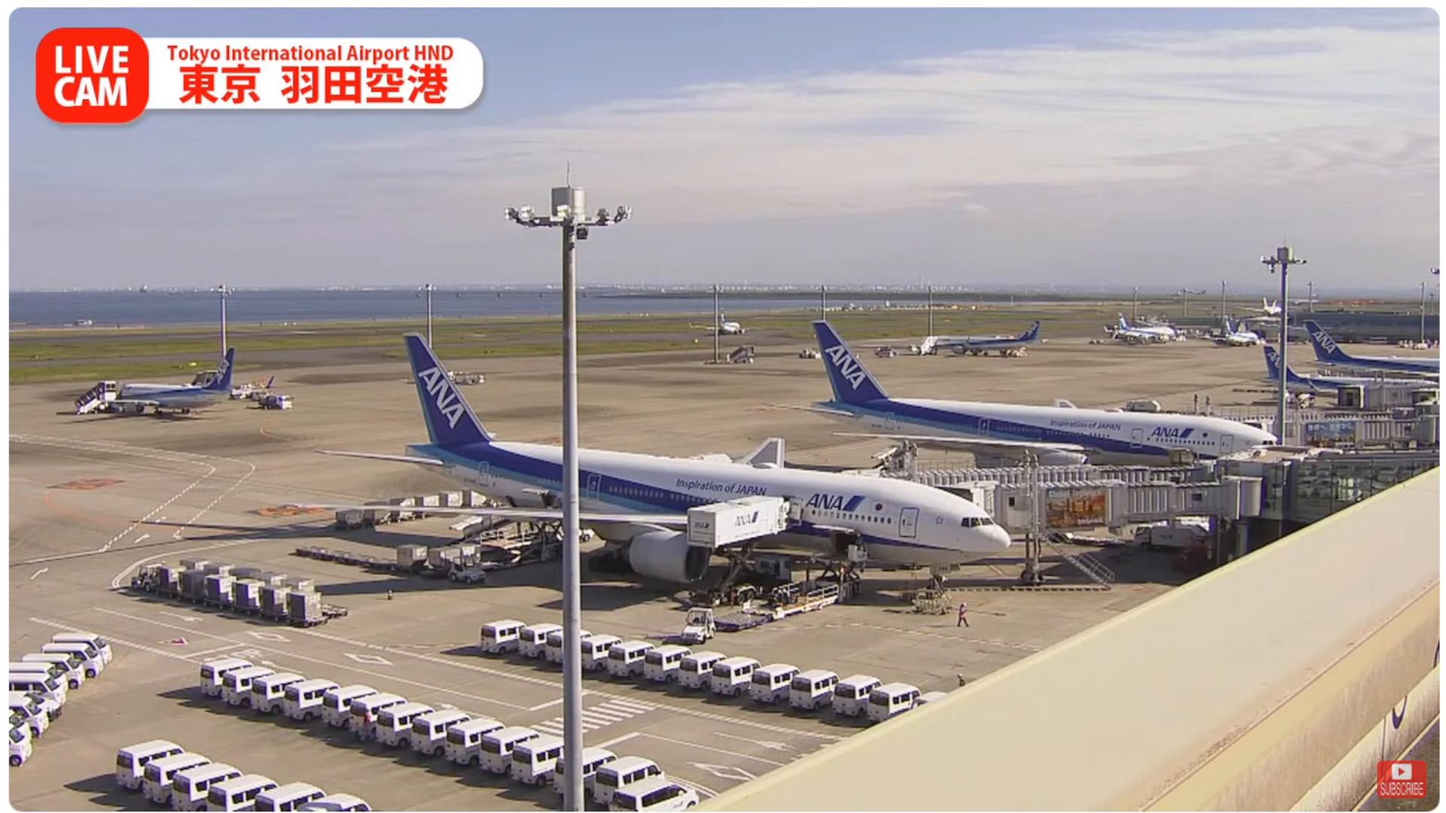Aerobridge: (956, 480, 1243, 535), (885, 461, 1213, 481)
Airplane: (290, 330, 1014, 584)
Catering: (686, 503, 793, 609)
Dolly: (154, 589, 322, 617), (313, 543, 448, 574)
JCPL: (749, 569, 868, 620), (469, 520, 558, 575)
Skyloader: (442, 491, 518, 554)
Tractor: (422, 547, 480, 583)
Window: (1270, 448, 1442, 536)
